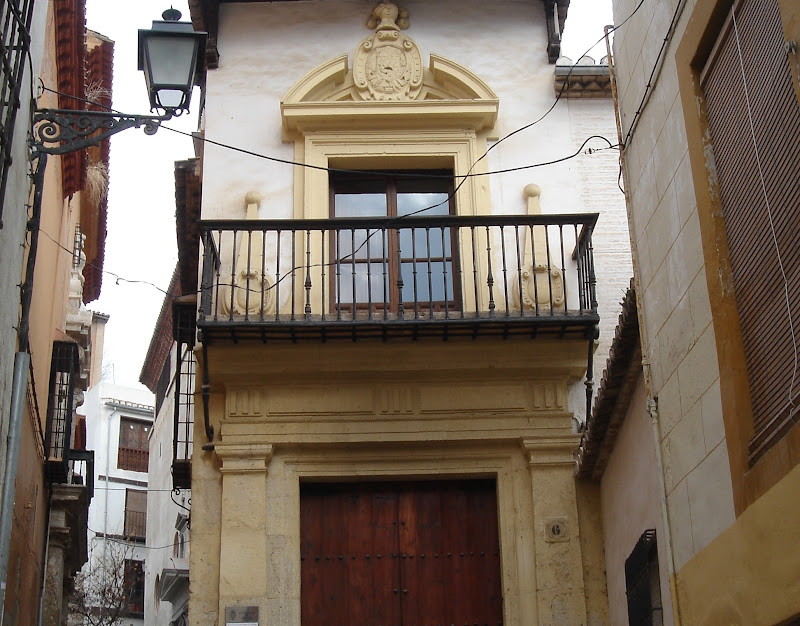fronton-partido: (274, 46, 505, 128)
vano-adintelado: (300, 131, 492, 319)
